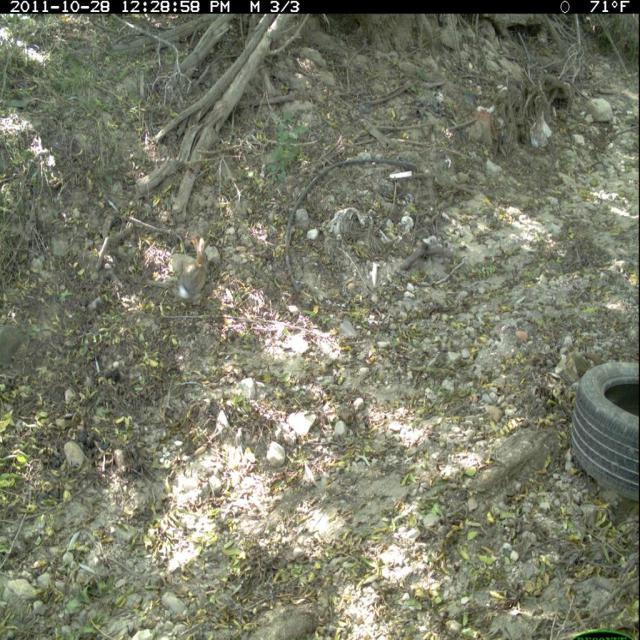rabbit: (174, 234, 212, 303)
